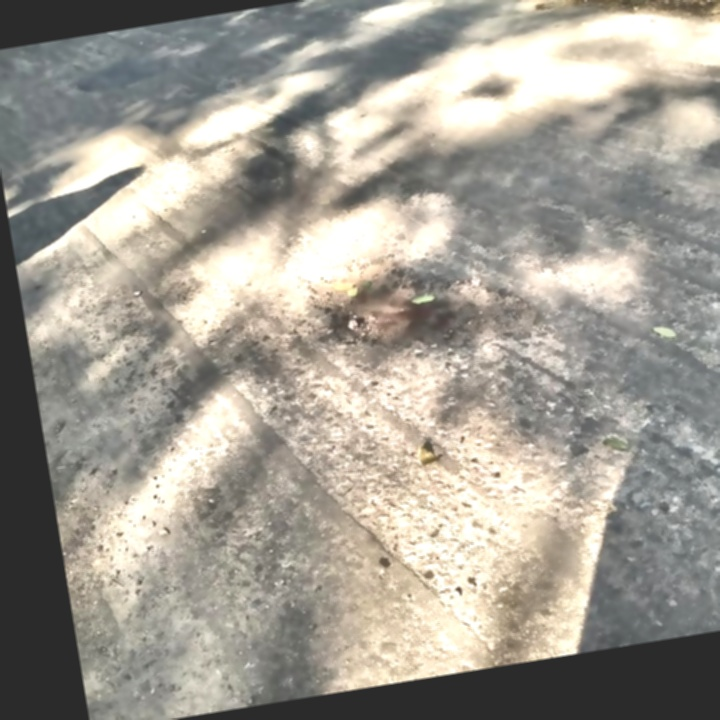pothole: (301, 229, 552, 379)
